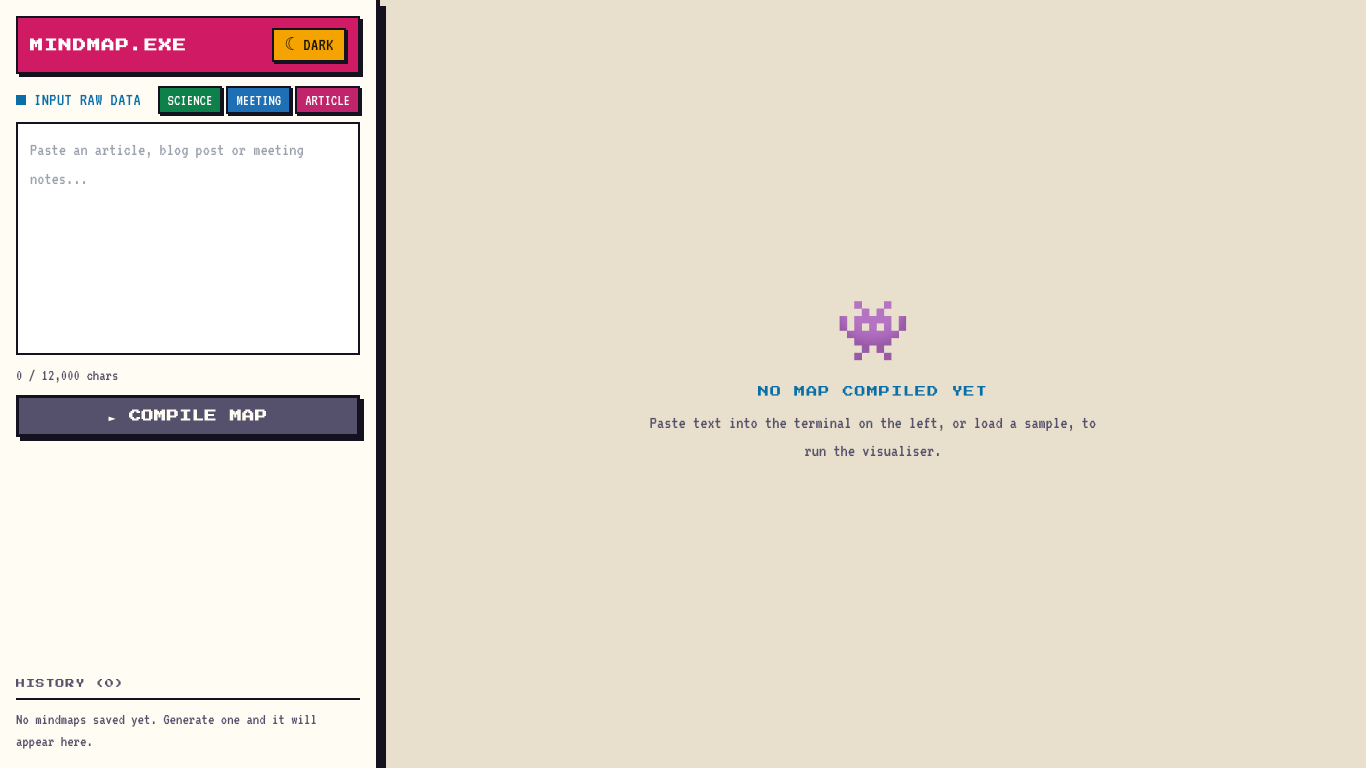
Test: empty and error states › enables the submit button once the text is long enough
Expected: the button "► COMPILE MAP" is disabled, 16,395 -> 360,437
Type "Photosynthesis lets plants turn sunlight into sugar using chlorophyll in their leaves." into the text box labelled "Input raw data".
click(188, 238); type("Photosynthesis lets plants turn sunlight into sugar using chlorophyll in their leaves.")  # box 16,122 -> 360,355
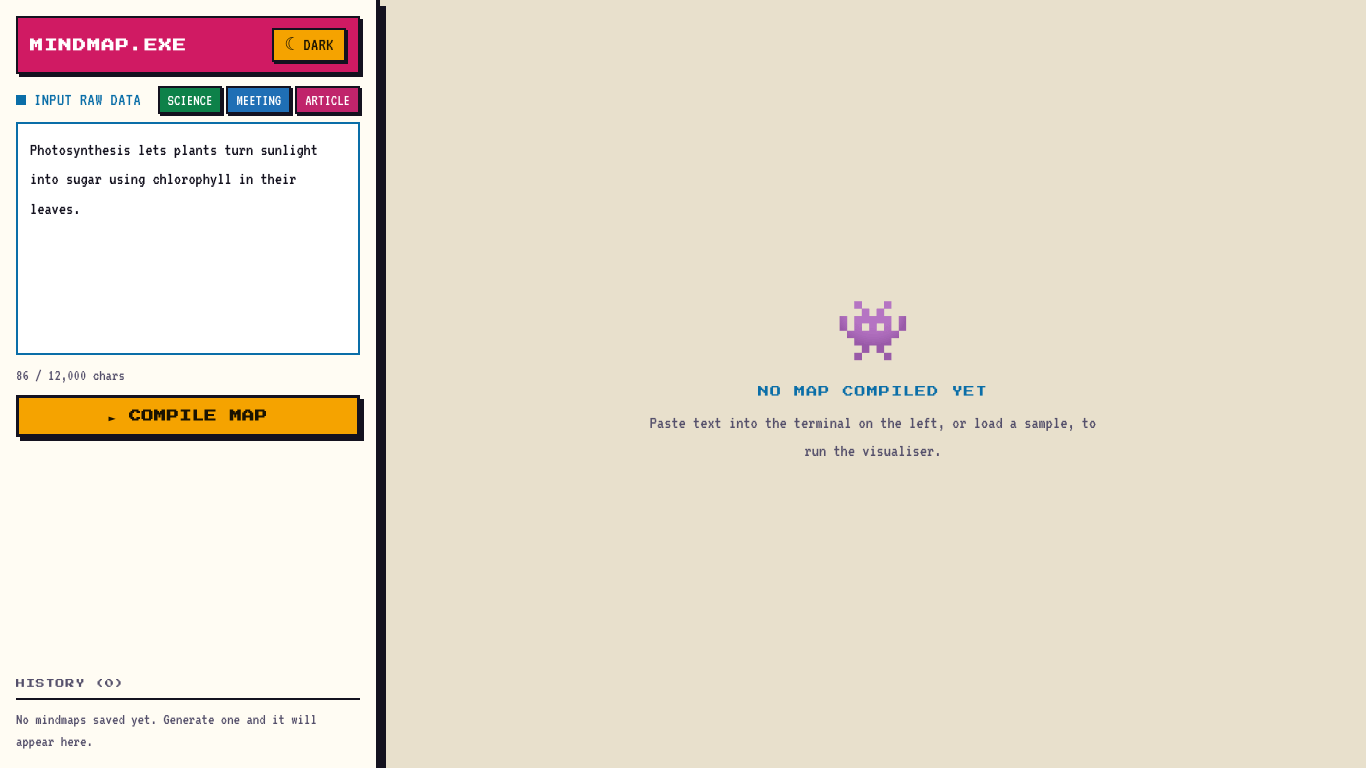
Expected: the button "► COMPILE MAP" is enabled, 16,395 -> 360,437
